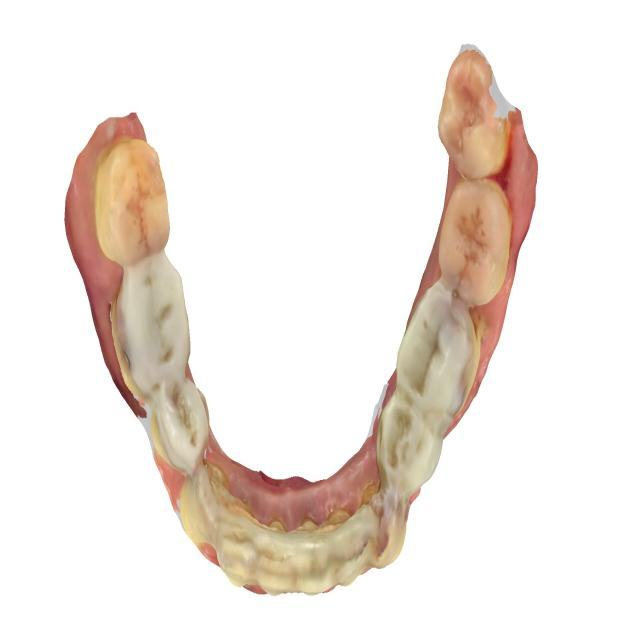tooth: (107, 243, 201, 411), (393, 281, 488, 447), (427, 171, 523, 324), (89, 133, 179, 272), (435, 42, 518, 190), (371, 389, 450, 501), (150, 379, 221, 497), (358, 479, 414, 587), (209, 499, 268, 600), (250, 512, 306, 610), (177, 457, 226, 561), (324, 513, 379, 601), (290, 524, 345, 610)
